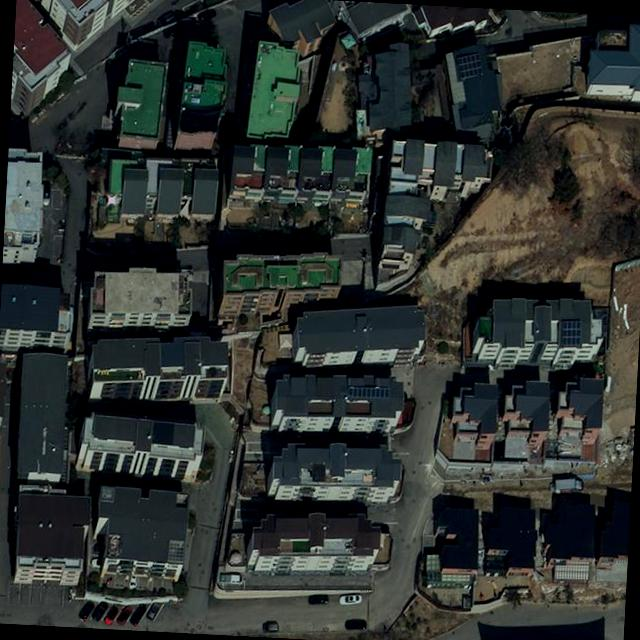solar: (454, 50, 484, 82), (347, 386, 391, 400), (561, 319, 582, 346)
